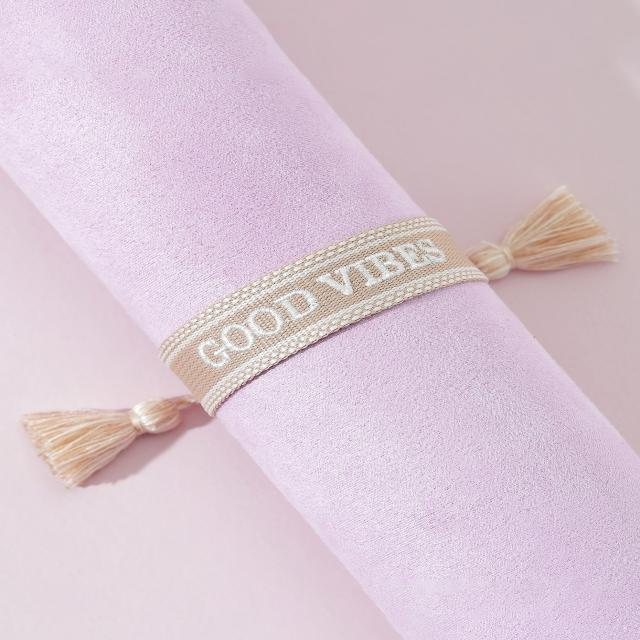bracelet: (16, 135, 640, 518)
